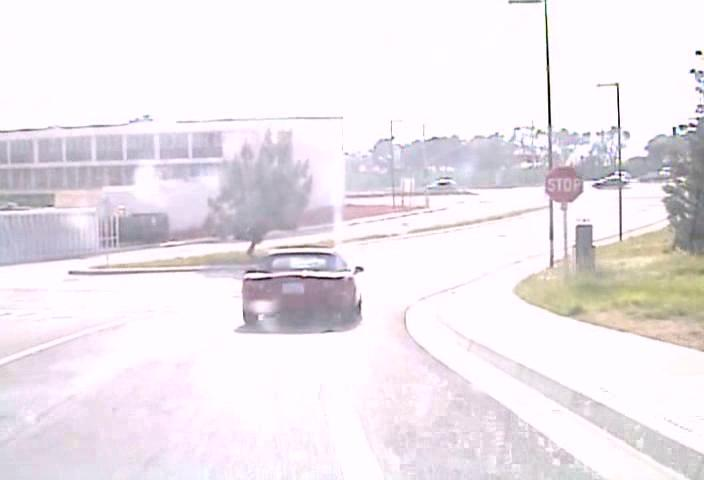stop: (544, 165, 583, 203)
